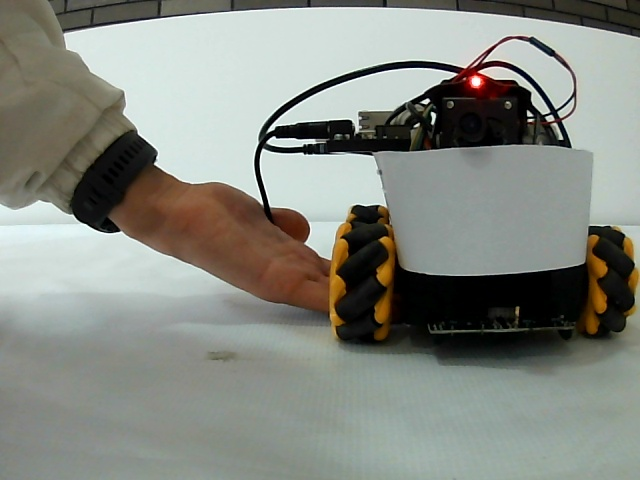car: (336, 67, 638, 340)
paper: (386, 152, 589, 271)
